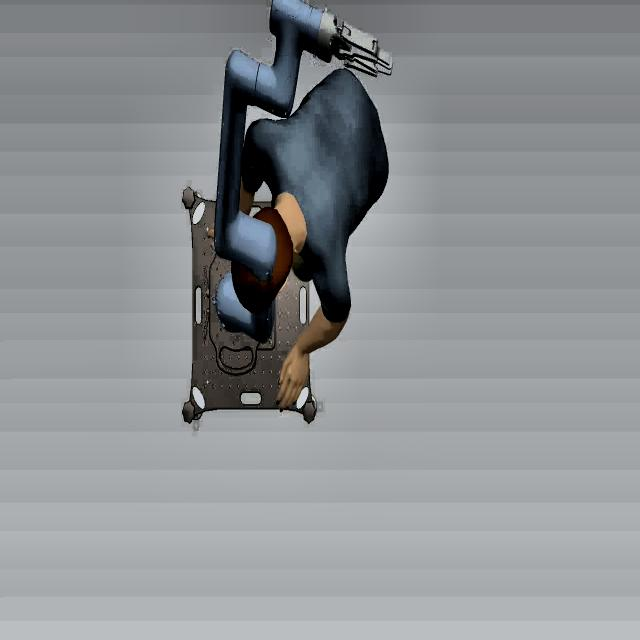robot: (208, 0, 400, 353)
